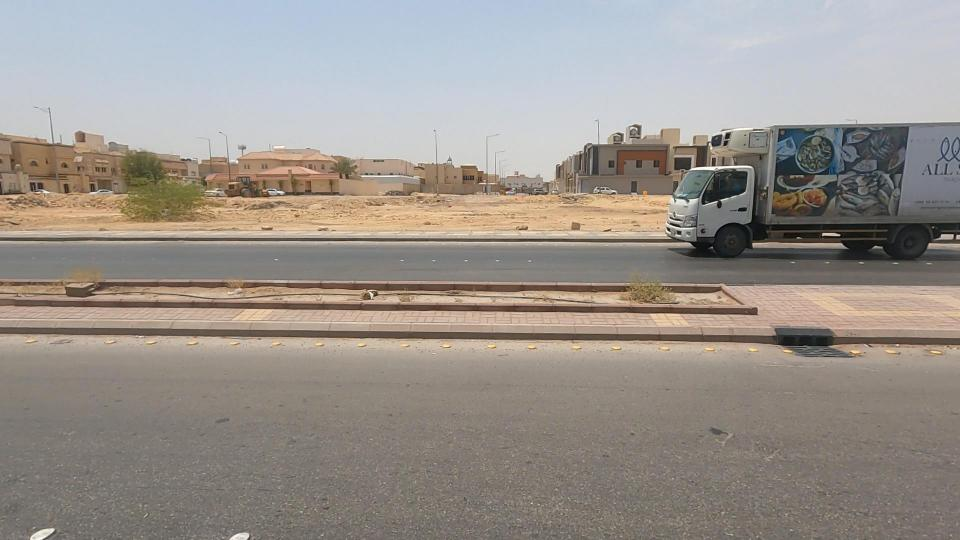CLUTTER_SIDEWALK: (0, 221, 540, 375), (290, 222, 790, 365)
